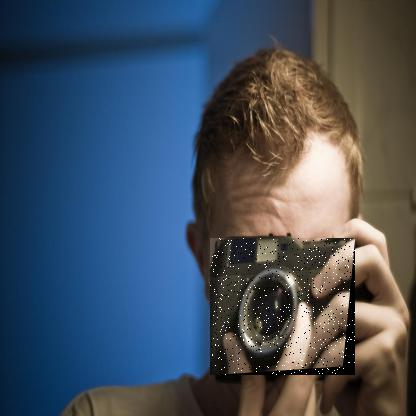Camera: (211, 239, 357, 377)
